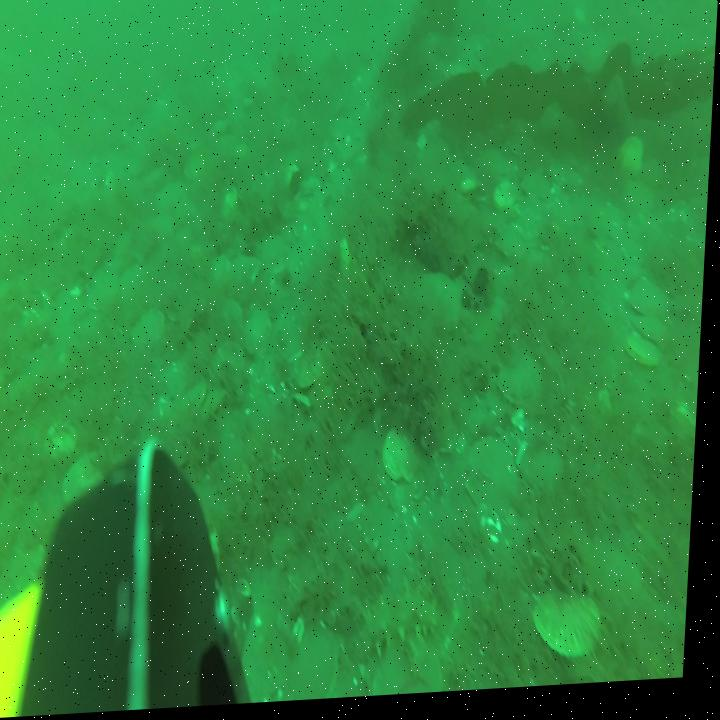holothurian: (356, 590, 443, 662)
scallop: (585, 539, 649, 639), (539, 587, 611, 673), (471, 434, 525, 531), (249, 621, 300, 706), (294, 627, 344, 705), (419, 391, 466, 464), (525, 444, 570, 508), (501, 357, 550, 415), (386, 428, 425, 494), (67, 458, 105, 511), (47, 418, 86, 468), (246, 311, 280, 365), (302, 339, 336, 392), (133, 302, 168, 352), (630, 282, 669, 325), (264, 236, 297, 283), (91, 272, 124, 319), (630, 340, 663, 383), (217, 344, 247, 389), (638, 317, 671, 355), (495, 187, 525, 226), (524, 175, 552, 214), (619, 141, 646, 181), (553, 166, 582, 201)
